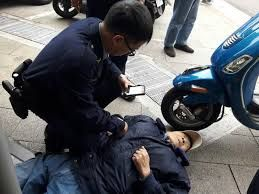fall: (8, 104, 204, 194)
